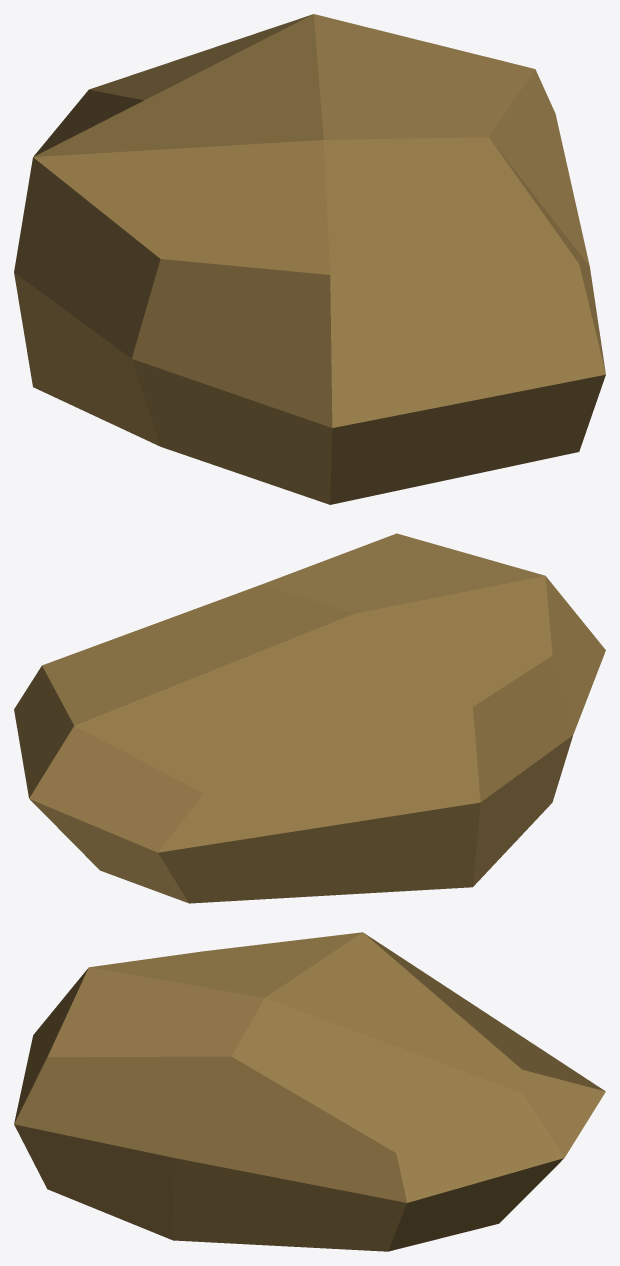
Rendered from rock-orange.fbx.
3 views of the same model, one above another, from view 1: azimuth 30°, elevation 25°; view 2: azimuth 150°, elevation 25°; view 3: azimuth 270°, elevation 25° (orthographic). The views are drawn at different scales.
Parts seen in each view (by area): view 1: rock_orange; view 2: rock_orange; view 3: rock_orange.
Boxes of the visible parts, <box> form: rock_orange: <box>14,14,605,504</box>; rock_orange: <box>14,533,605,903</box>; rock_orange: <box>14,932,605,1251</box>.
Bounding box in the file's own units: 2.26 × 1.07 × 2.9.
